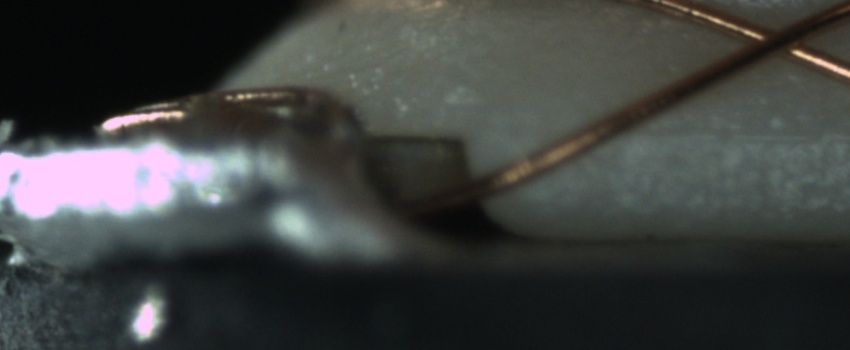CL: (726, 8, 828, 68)
DL: (607, 104, 845, 168)
TE: (97, 88, 356, 145)
